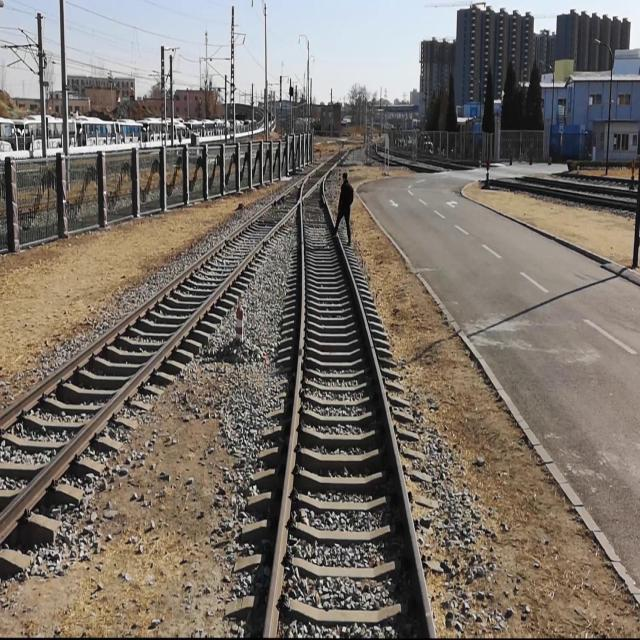rail: (1, 149, 355, 544), (1, 152, 341, 435), (337, 233, 438, 640), (264, 177, 310, 640), (324, 178, 337, 229)
